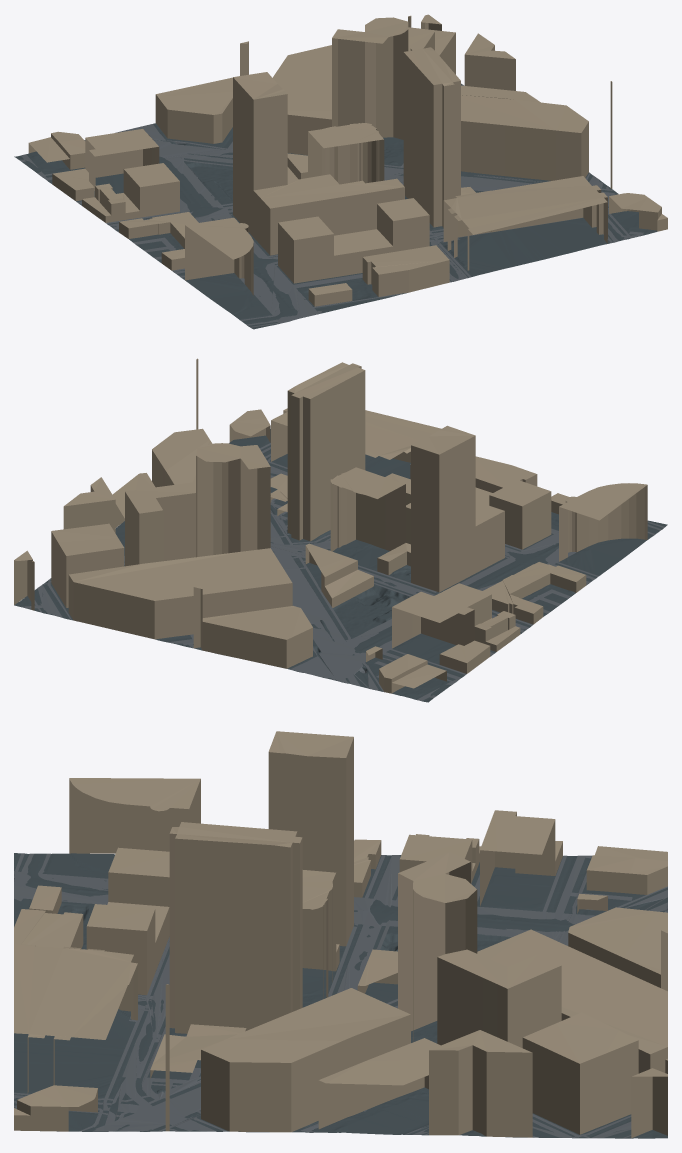
The model's file is epsg26910-1435-10888.lod0.glb.
3 views of the same model, one above another, from view 1: azimuth 30°, elevation 25°; view 2: azimuth 150°, elevation 25°; view 3: azimuth 270°, elevation 25° (orthographic). The views are drawn at different scales.
Visible parts, largest first — view 1: epsg26910-1435-10888-lod0; view 2: epsg26910-1435-10888-lod0; view 3: epsg26910-1435-10888-lod0.
Part boxes in pixels (x1,y1,x2,y2): epsg26910-1435-10888-lod0: (14, 14, 667, 329); epsg26910-1435-10888-lod0: (14, 358, 667, 702); epsg26910-1435-10888-lod0: (14, 731, 667, 1138).
Bounding box in the file's own units: 384 × 133 × 384.
